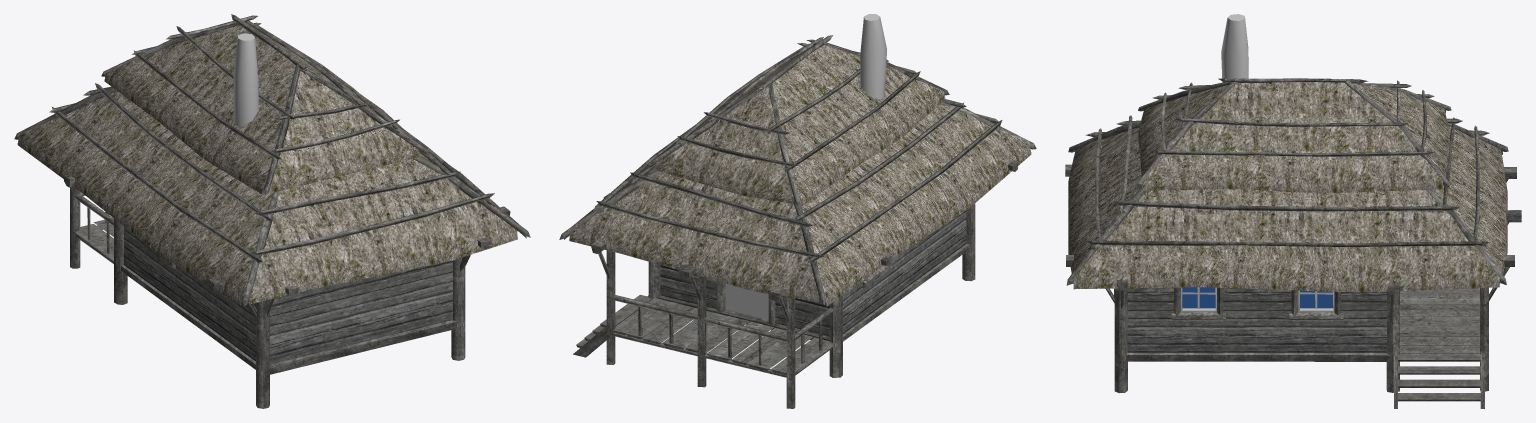
The model's file is mw_type_3_cottage_02_LOD1.FBX.
3 views of the same model, side by side, from view 1: azimuth 30°, elevation 25°; view 2: azimuth 150°, elevation 25°; view 3: azimuth 270°, elevation 25° (orthographic). The views are drawn at different scales.
Parts seen in each view (by area): view 1: mw_type_3_cottage_02_roof, mw_type_3_cottage_02_wood, mw_type_3_cottage_02; view 2: mw_type_3_cottage_02_roof, mw_type_3_cottage_02_wood, mw_type_3_cottage_02; view 3: mw_type_3_cottage_02_roof, mw_type_3_cottage_02_wood, mw_type_3_cottage_02.
Part boxes in pixels (<box>): mw_type_3_cottage_02_roof: <box>17,25,526,305</box>; mw_type_3_cottage_02_wood: <box>14,14,530,408</box>; mw_type_3_cottage_02: <box>233,33,258,126</box>; mw_type_3_cottage_02_roof: <box>564,45,1031,306</box>; mw_type_3_cottage_02_wood: <box>559,35,1036,408</box>; mw_type_3_cottage_02: <box>725,14,886,319</box>; mw_type_3_cottage_02_roof: <box>1068,82,1507,292</box>; mw_type_3_cottage_02_wood: <box>1065,78,1521,408</box>; mw_type_3_cottage_02: <box>1181,14,1334,311</box>.
Size of the model in its own units: 1004 by 998 by 1368.
